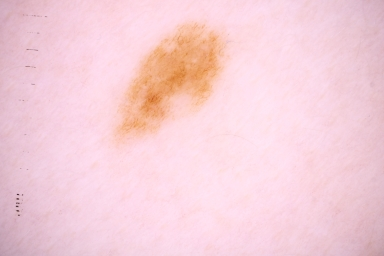nevus: (100, 20, 220, 151)
